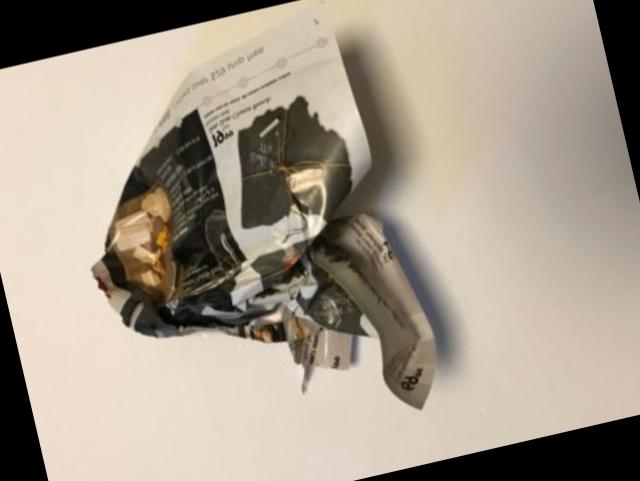cardboard paper: (89, 11, 433, 408)
